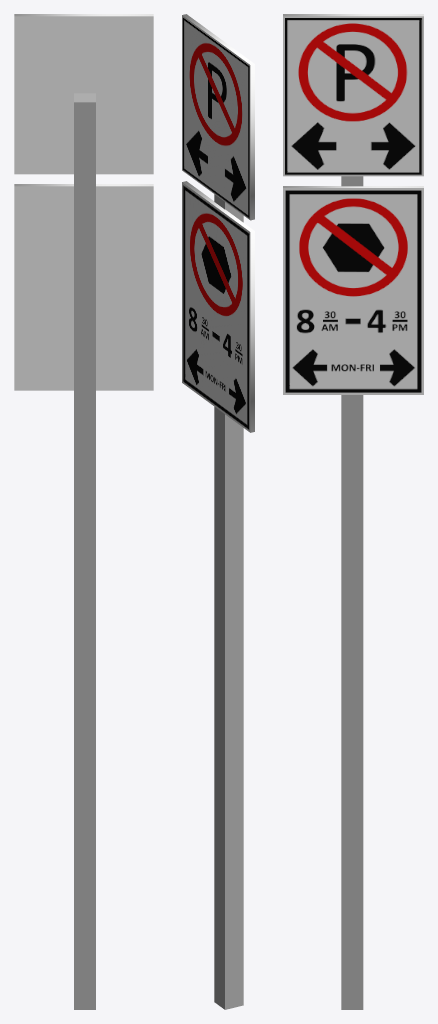
Rendered from sign2.fbx.
3 renders of one model, left to right at view 1: azimuth 90°, elevation 25°; view 2: azimuth 210°, elevation 25°; view 3: azimuth 270°, elevation 25°, orthographic. The views are drawn at different scales.
Parts seen in each view (by area): view 1: Cylinder.000_Cylinder.005; view 2: Cylinder.000_Cylinder.005; view 3: Cylinder.000_Cylinder.005.
Boxes of the visible parts, x1,y1,x2,y2 form: Cylinder.000_Cylinder.005: [14, 14, 153, 1009]; Cylinder.000_Cylinder.005: [182, 14, 254, 1009]; Cylinder.000_Cylinder.005: [283, 14, 423, 1009].
Size of the model in its own units: 9.16 by 377 by 48.3.
